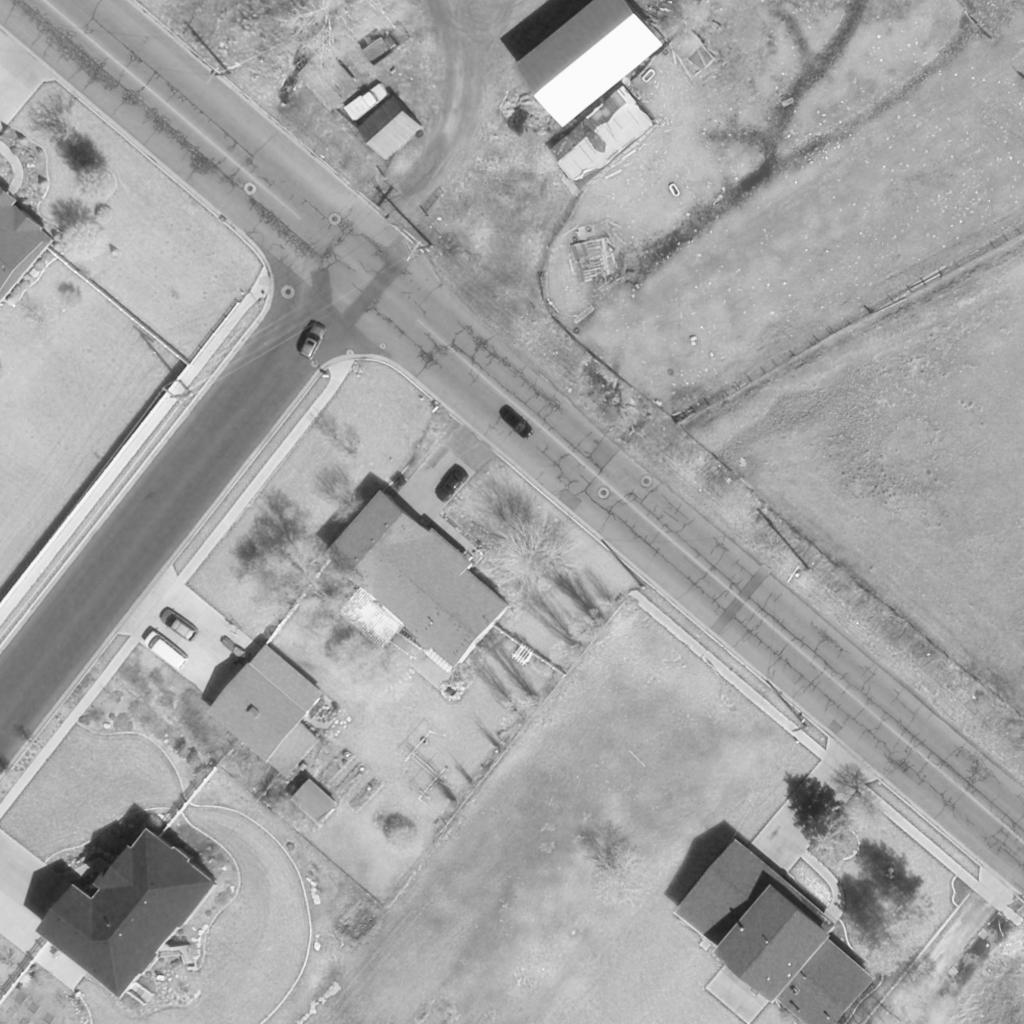vehicle: (360, 24, 414, 68), (142, 629, 190, 673), (342, 84, 392, 124), (156, 607, 202, 643), (498, 405, 536, 441), (433, 467, 469, 505), (297, 323, 329, 361)
